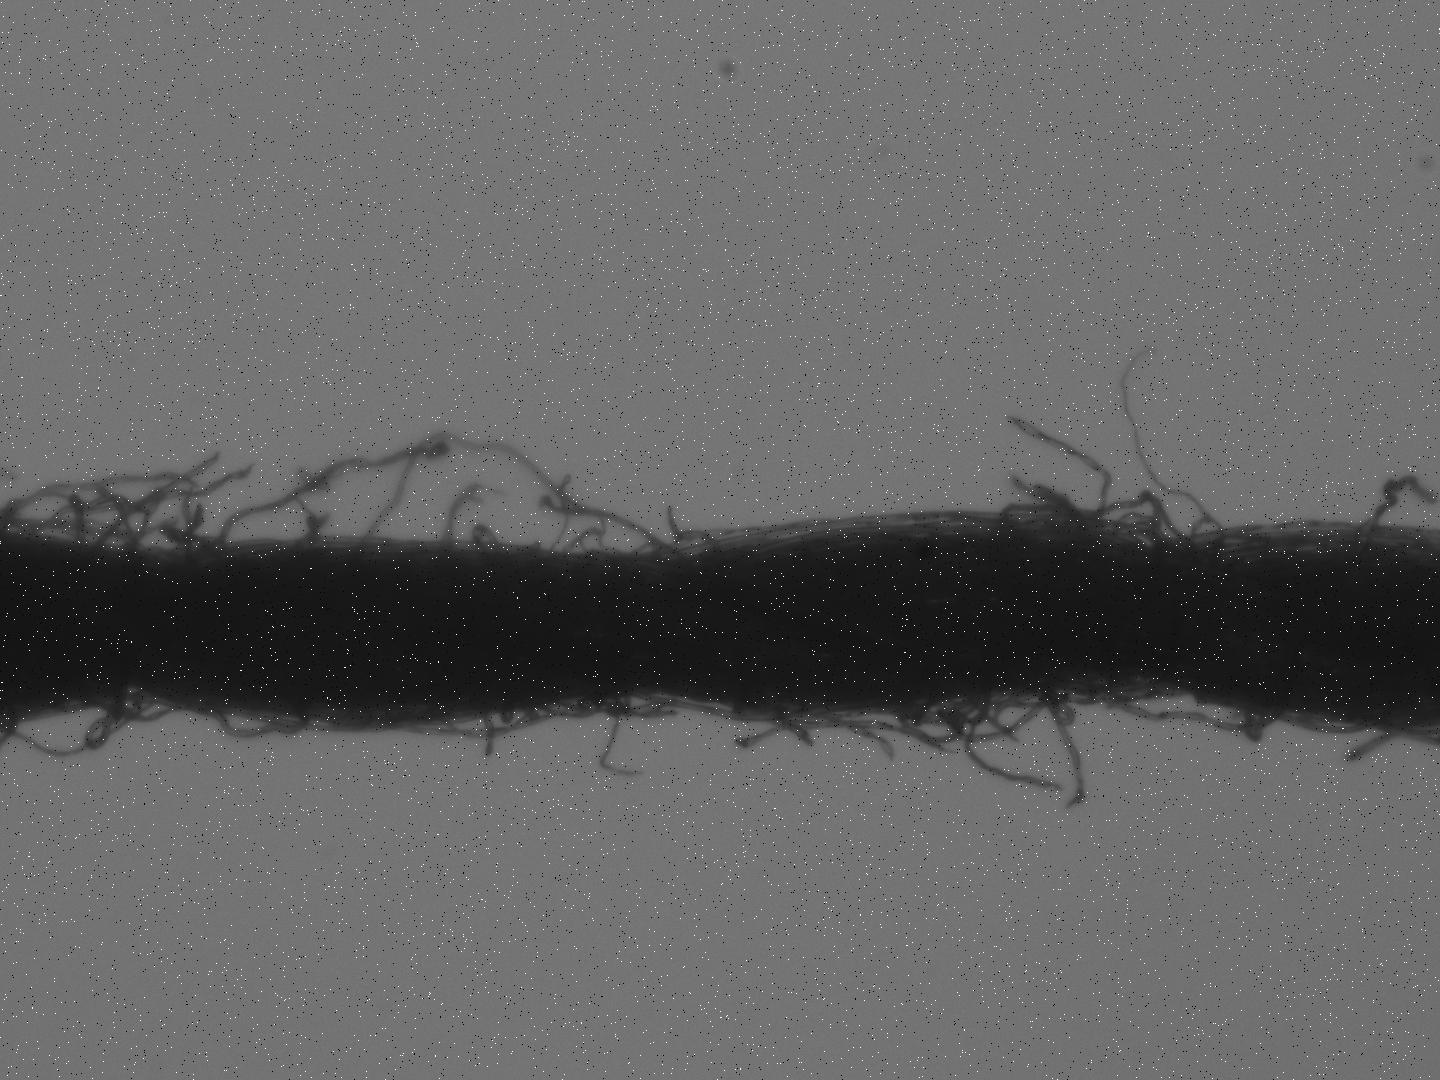loop_fiber: (355, 434, 566, 555), (0, 475, 189, 560), (1124, 347, 1189, 507), (1, 701, 146, 758), (1118, 690, 1272, 735), (905, 693, 1034, 744), (543, 497, 663, 550), (1074, 496, 1181, 549), (70, 492, 146, 557), (3, 521, 133, 556), (649, 695, 791, 726), (997, 506, 1101, 543), (433, 702, 530, 740), (87, 693, 179, 725), (207, 711, 302, 740), (576, 693, 672, 718), (1276, 709, 1362, 736), (1103, 515, 1162, 554), (1185, 514, 1225, 560), (537, 698, 596, 724), (674, 531, 717, 557)
protruding_fiber: (214, 441, 451, 546), (92, 452, 222, 562), (1011, 415, 1107, 525), (963, 700, 1060, 793), (760, 712, 948, 758), (1039, 693, 1085, 813), (600, 700, 638, 775), (440, 483, 484, 546), (1346, 729, 1388, 761), (481, 716, 490, 759)
